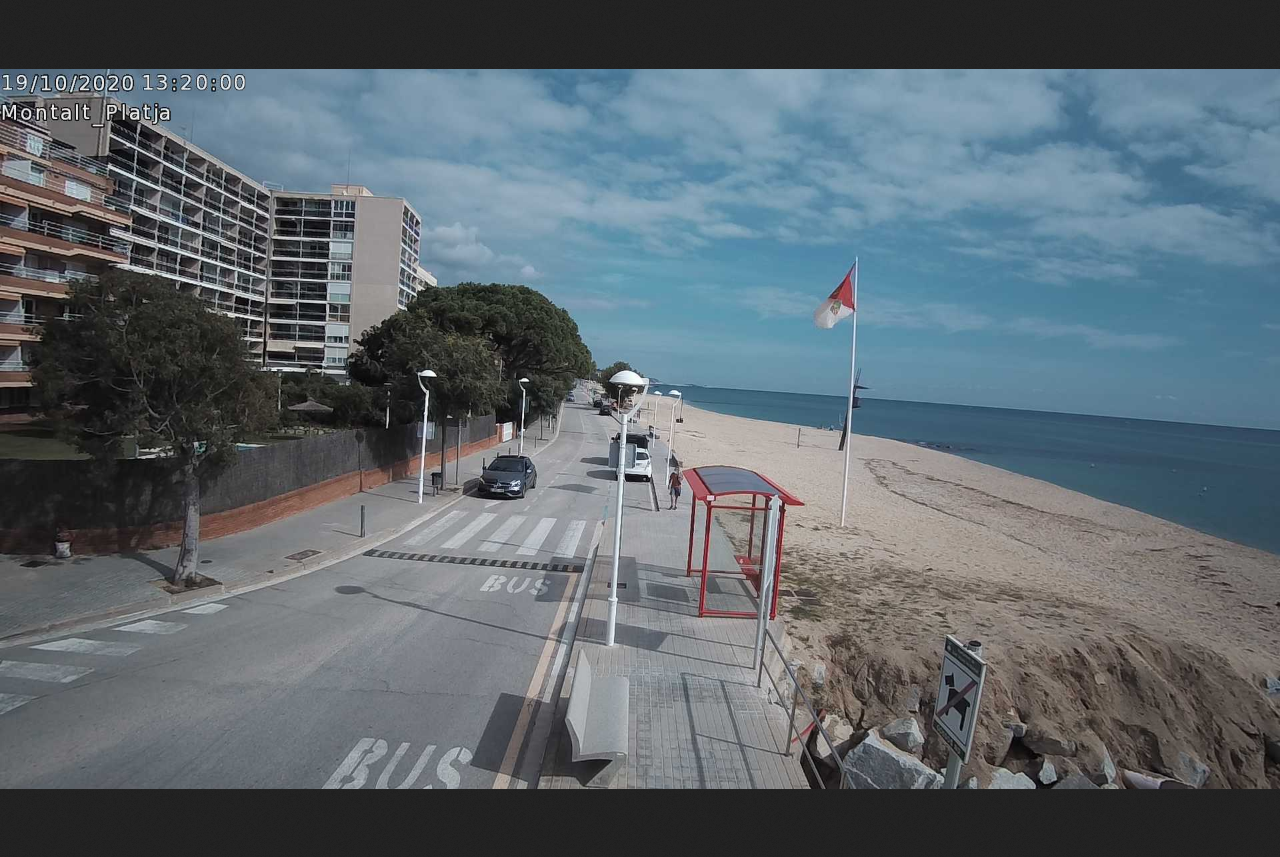maybe: (805, 248, 864, 336)
